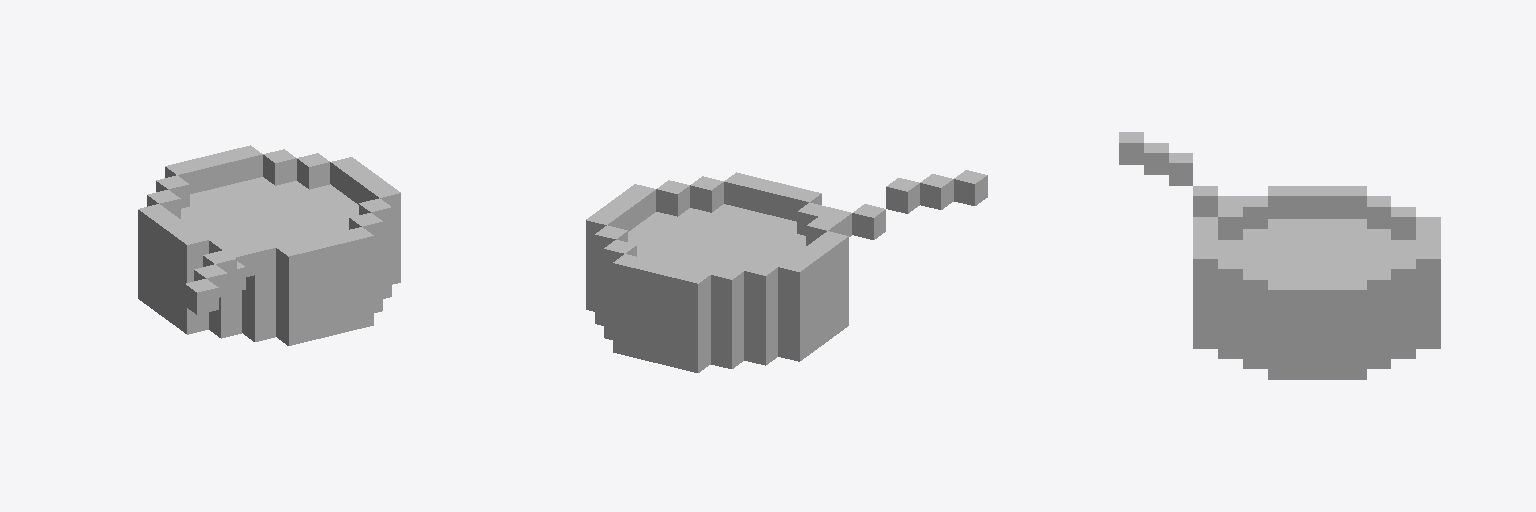
Rendered from cooking_saucepan_fill.obj.
3 renders of one model, left to right at view 1: azimuth 30°, elevation 25°; view 2: azimuth 150°, elevation 25°; view 3: azimuth 270°, elevation 25°, orthographic.
Visible parts, largest first — view 1: node_0_0_0.002, node_0_0_0.005; view 2: node_0_0_0.002, node_0_0_0.005; view 3: node_0_0_0.002, node_0_0_0.005.
Part boxes in pixels (bbox=[...]): node_0_0_0.002: bbox=[138, 145, 400, 345]; node_0_0_0.005: bbox=[181, 177, 358, 247]; node_0_0_0.002: bbox=[586, 170, 987, 372]; node_0_0_0.005: bbox=[628, 204, 805, 274]; node_0_0_0.002: bbox=[1119, 132, 1440, 379]; node_0_0_0.005: bbox=[1218, 219, 1415, 279].
Bounding box in the file's own units: 0.8125 × 0.3125 × 0.8125.